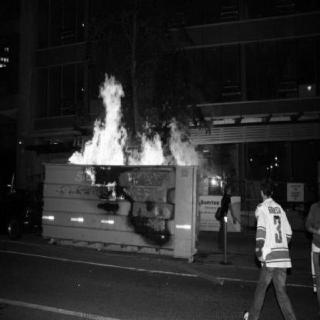other: (100, 216, 114, 227)
